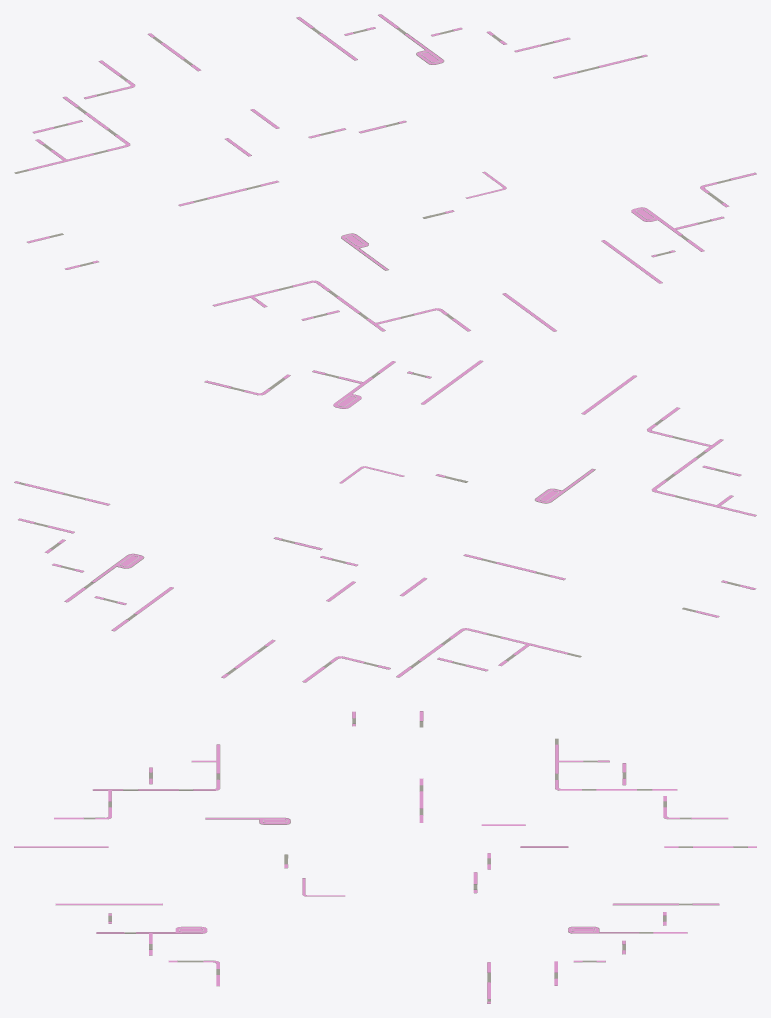
The model's file is GRASS_SIDEWALKS.fbx.
The picture shows the model from 3 angles, top to bottom: view 1: azimuth 30°, elevation 25°; view 2: azimuth 150°, elevation 25°; view 3: azimuth 270°, elevation 25°; orthographic projection. The views are drawn at different scales.
Bounding box in the file's own units: 2191 × 1.32 × 2351.
